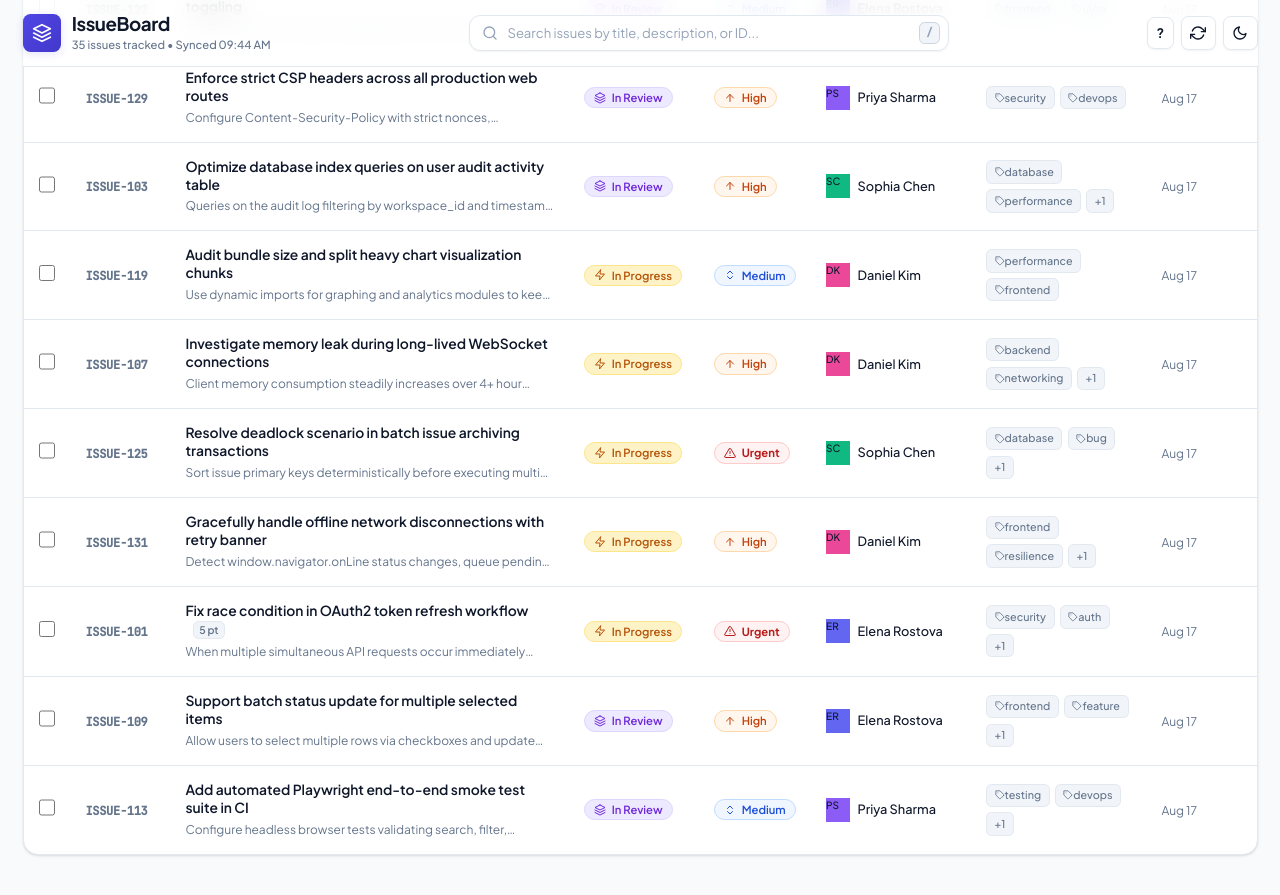
Scenario: Selection and Bulk Actions › performs bulk assignee update on selected issues
The width and height of the screenshot is (1280, 895).
(page scrolled)
Expected: the text "Fix race condition in OAuth2 token refresh workflow" is shown, 185,602 -> 528,619
Click the checkbox named "Select issue ISSUE-101" at (47, 629), box 38,620 -> 55,637
(page scrolled)
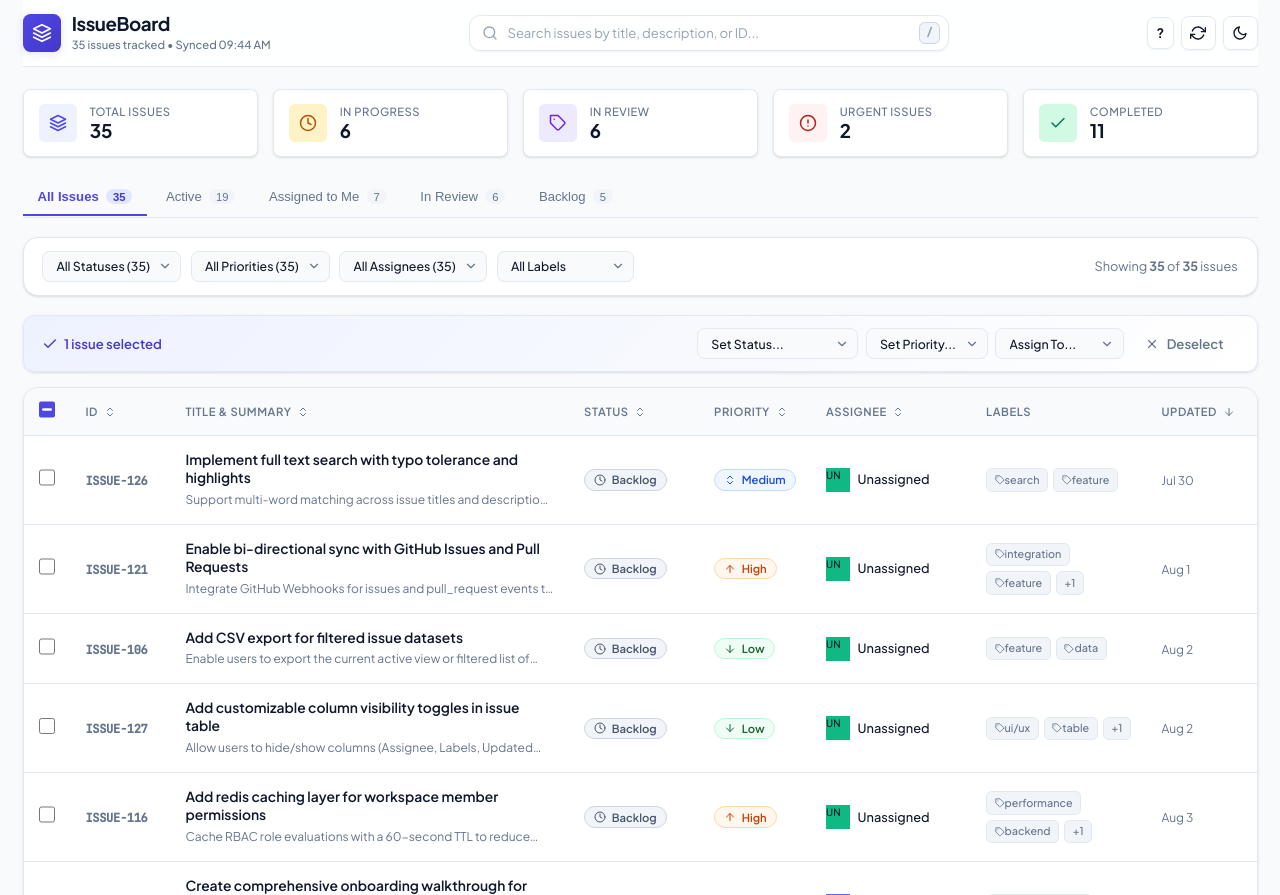
Select "Unassigned" in the dropdown named "Assign selected issues" at (1059, 344), box 995,328 -> 1124,359
(page scrolled)
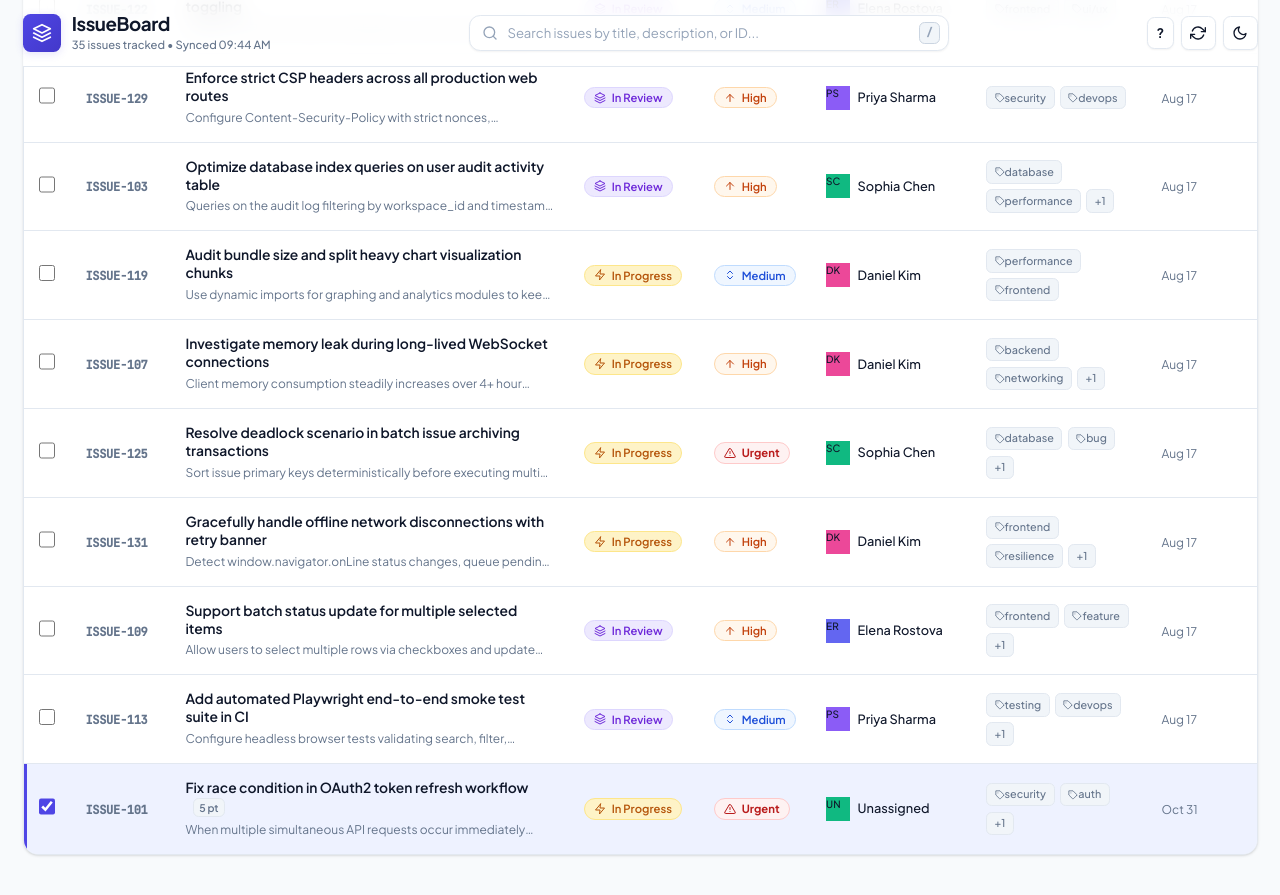
Now the row named "Issue ISSUE-101" shows "Unassigned", box 858,800 -> 930,816
